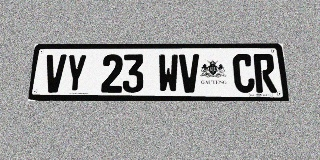2: (101, 54, 123, 93)
3: (122, 54, 144, 93)
C: (232, 54, 256, 93)
R: (253, 54, 277, 93)
V: (43, 54, 67, 93), (179, 54, 200, 93)
W: (158, 54, 179, 93)
Y: (64, 54, 87, 93)
